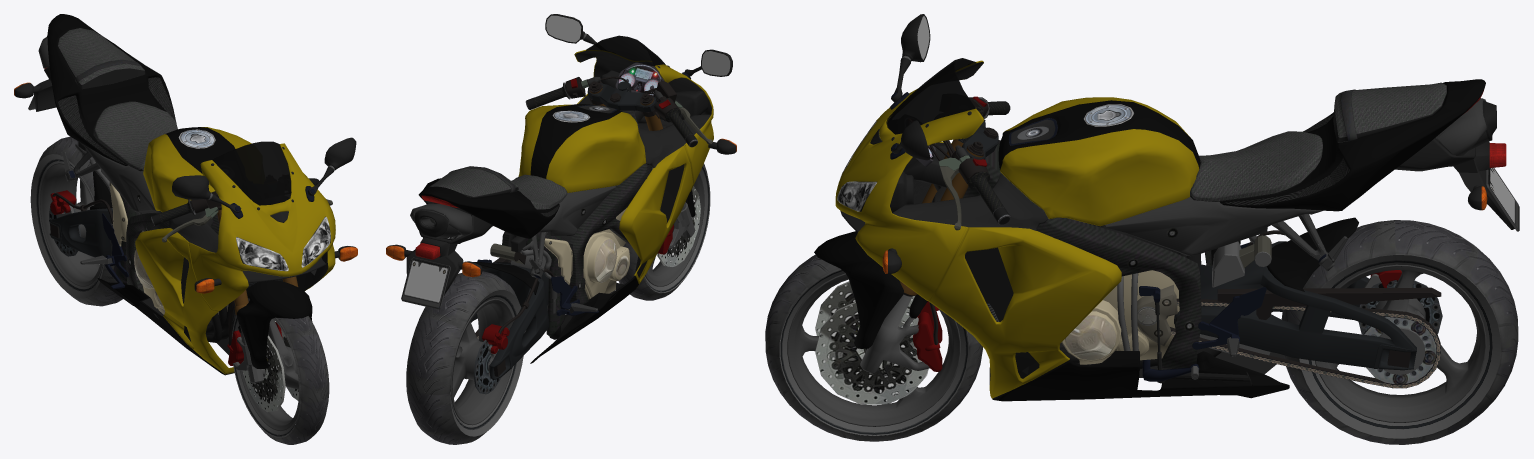
The model's file is Motorcycle_5.FBX.
3 renders of one model, left to right at view 1: azimuth 30°, elevation 25°; view 2: azimuth 150°, elevation 25°; view 3: azimuth 270°, elevation 25°, orthographic. The views are drawn at different scales.
Visible parts, largest first — view 1: Body, Wheel_F, Wheel_B, Steer, Rear; view 2: Body, Wheel_B, Rear, Steer, Wheel_F; view 3: Body, Wheel_B, Wheel_F, Rear, Steer.
Boxes of the visible parts, <box> form: Body: <box>14,14,357,375</box>; Wheel_F: <box>232,298,329,444</box>; Wheel_B: <box>30,136,122,306</box>; Steer: <box>151,178,332,383</box>; Rear: <box>49,161,139,257</box>; Body: <box>386,14,736,363</box>; Wheel_B: <box>406,271,524,444</box>; Rear: <box>470,243,569,379</box>; Steer: <box>525,76,712,254</box>; Wheel_F: <box>618,164,710,300</box>; Body: <box>835,14,1519,401</box>; Wheel_B: <box>1281,220,1518,444</box>; Wheel_F: <box>765,254,982,441</box>; Rear: <box>1170,217,1441,388</box>; Steer: <box>814,96,1010,373</box>.
Size of the model in its own units: 30.71 by 43.87 by 79.63.
Materials: 6 (2 with a texture image).
